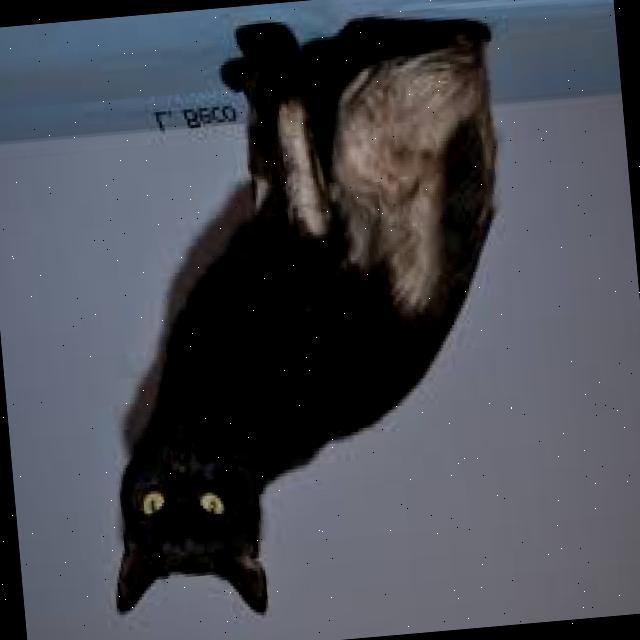cat-hairloss: (320, 52, 502, 303)
